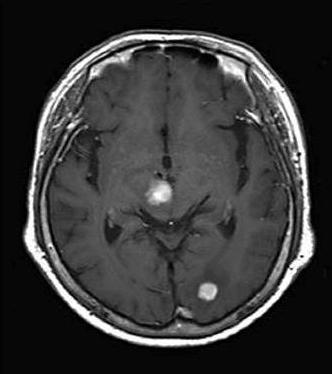Normal_Brain: (2, 17, 332, 374)
